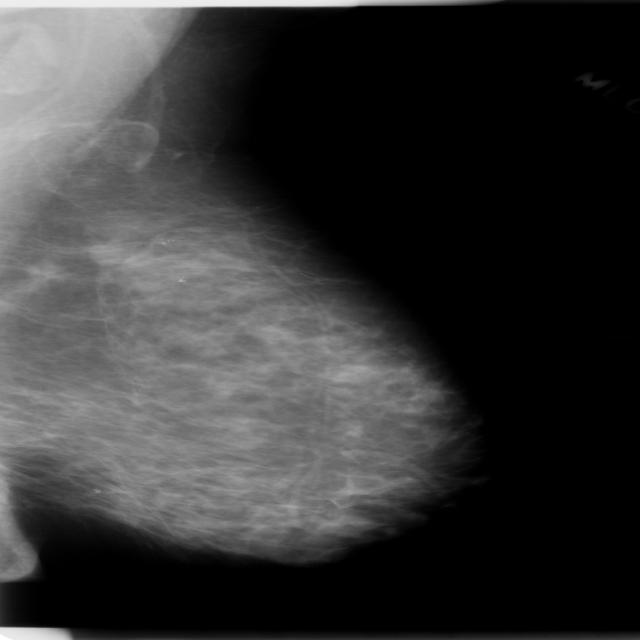normal: (0, 0, 470, 592)
